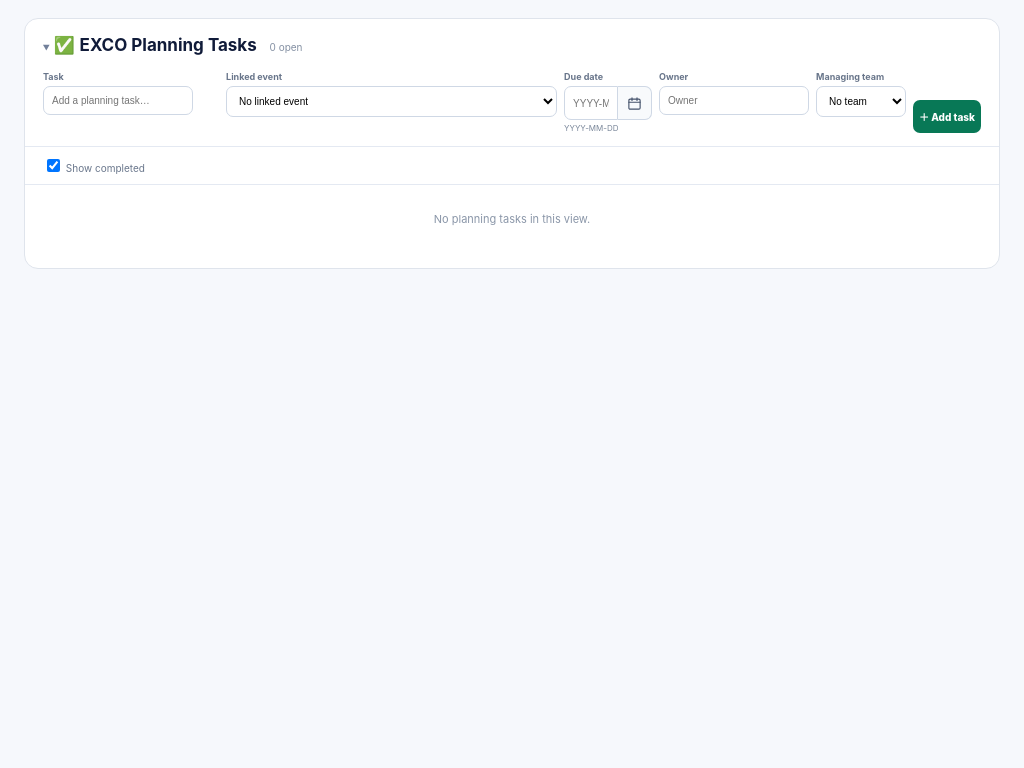
Test case: PlanningTaskBoard › selects a due date from an English calendar dialog
Type "2026-08-10" into the field named "Due date (YYYY-MM-DD)" at (591, 103), box left=564, top=86, right=618, bottom=120
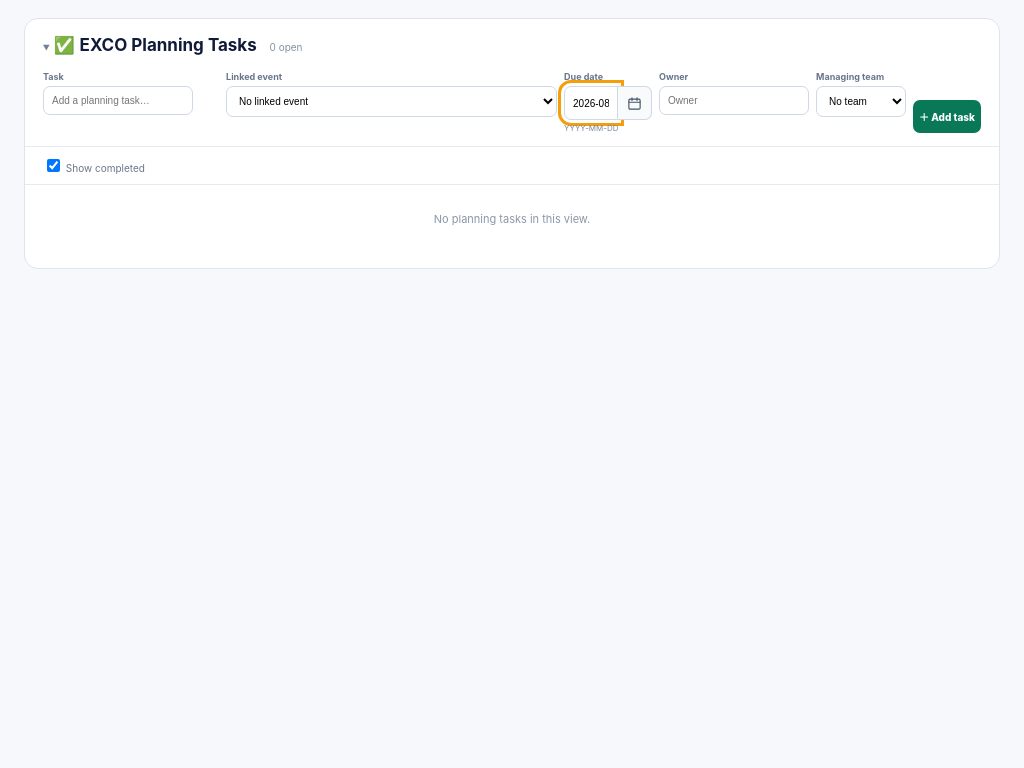
Click the button named "Choose due date" at (635, 103), box left=618, top=86, right=652, bottom=120
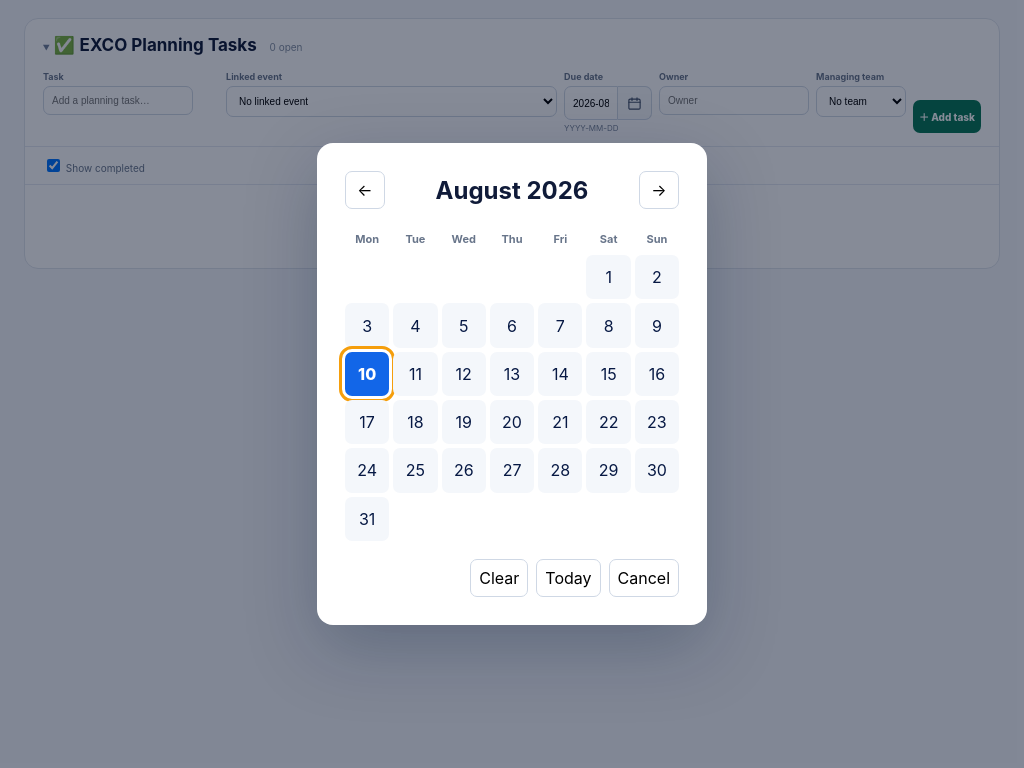
Check: the dialog "August 2026" is shown, box left=317, top=143, right=707, bottom=625
Check: the column heading "Mon" is shown, box left=355, top=232, right=379, bottom=246
Check: the column heading "Sun" is shown, box left=646, top=232, right=667, bottom=246
Click the cell named "Choose Wednesday, August 12, 2026" at (464, 374), box left=442, top=352, right=486, bottom=396
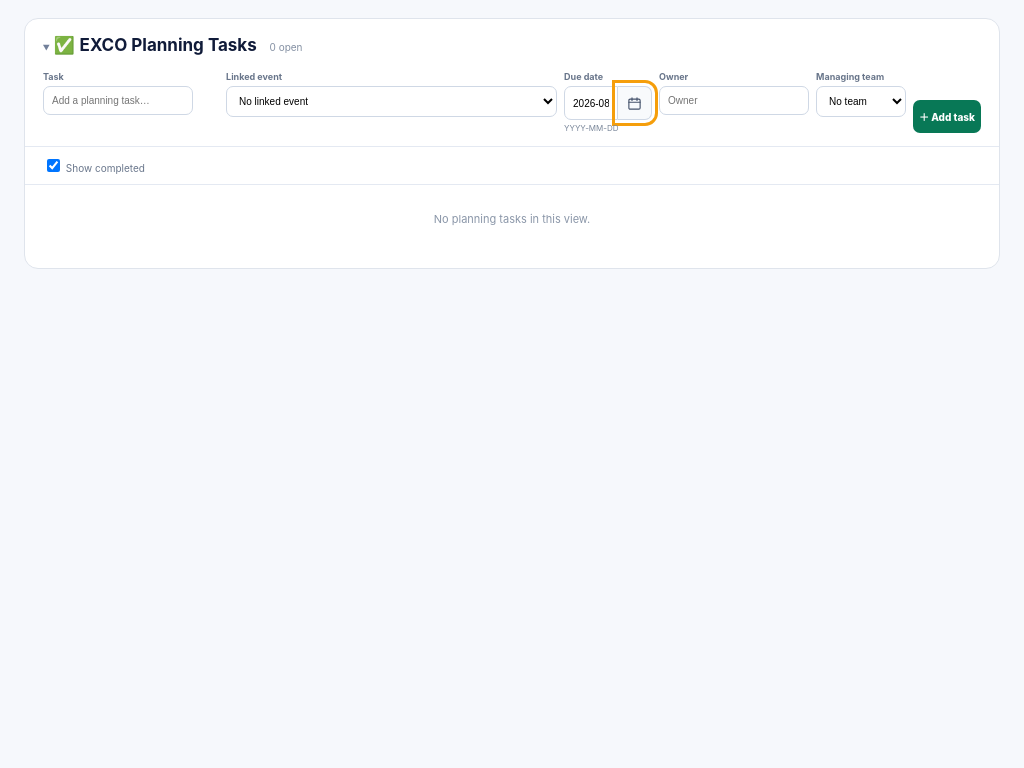
Check: the field named "Due date (YYYY-MM-DD)" holds "2026-08-12", box left=564, top=86, right=618, bottom=120
Check: the heading "August 2026" is gone
